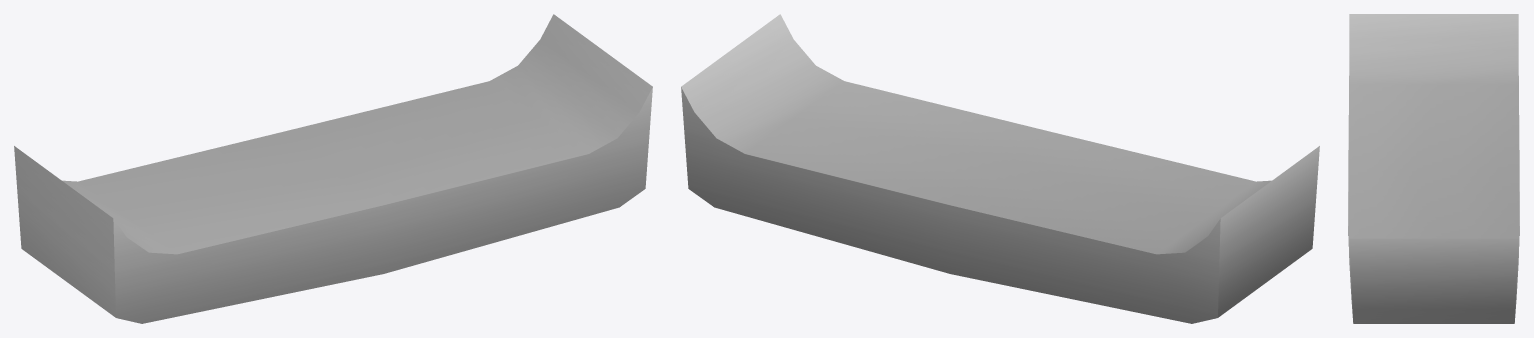
Rendered from stone_guard_056.glb.
3 renders of one model, left to right at view 1: azimuth 30°, elevation 25°; view 2: azimuth 150°, elevation 25°; view 3: azimuth 270°, elevation 25°, orthographic. The views are drawn at different scales.
Visible parts, largest first — view 1: stone_guard.056; view 2: stone_guard.056; view 3: stone_guard.056.
Boxes of the visible parts, x1,y1,x2,y2 form: stone_guard.056: [14, 14, 652, 323]; stone_guard.056: [681, 14, 1319, 323]; stone_guard.056: [1348, 14, 1519, 323].
Bounding box in the file's own units: 6.1 × 1.31 × 1.97.
1 material, 1 textured.
